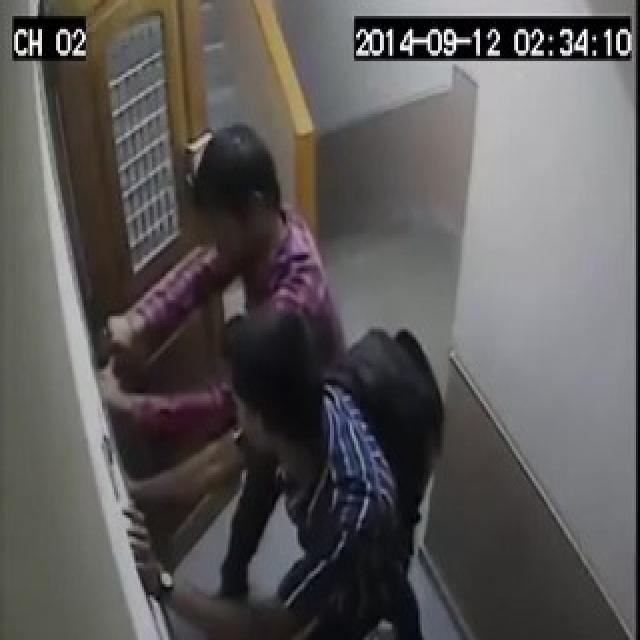thief: (102, 132, 454, 635)
